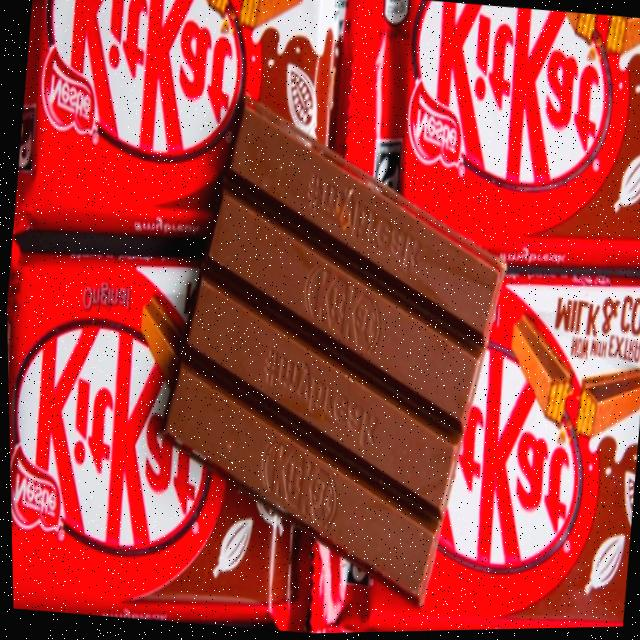kitkat: (4, 219, 340, 638), (299, 248, 640, 635), (9, 0, 361, 266), (325, 0, 640, 296)
